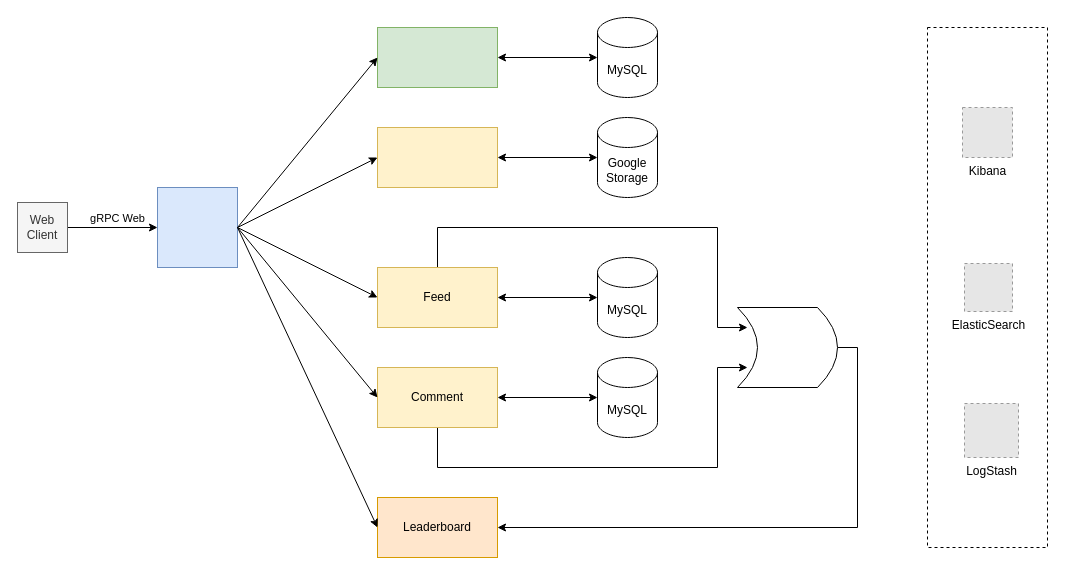
Image size: 1065x575. Some labels were removed from this diagram. Grey dashed boxes stand in for pictures. Each missing label, with the centre of its shape:
API Gateway: pixel 197 227
Identity: pixel 437 57
Queue: pixel 787 347
Upload: pixel 437 157
